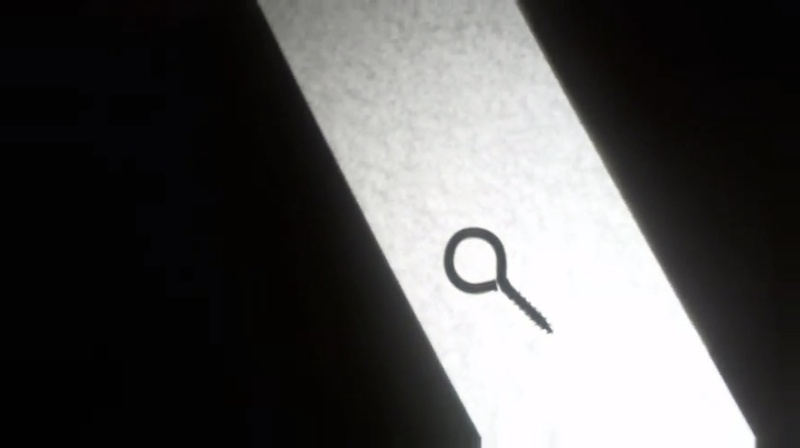O001: (440, 224, 557, 341)
